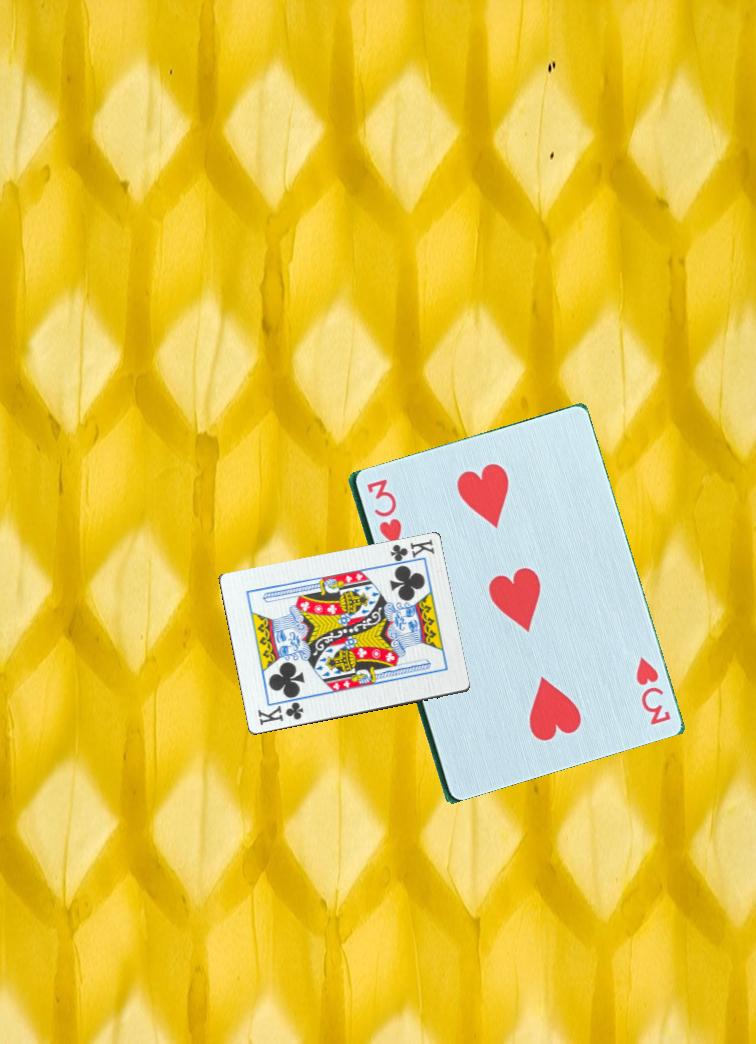3h: (623, 651, 673, 733), (362, 475, 403, 550)
kc: (254, 699, 306, 732), (387, 536, 437, 565)
